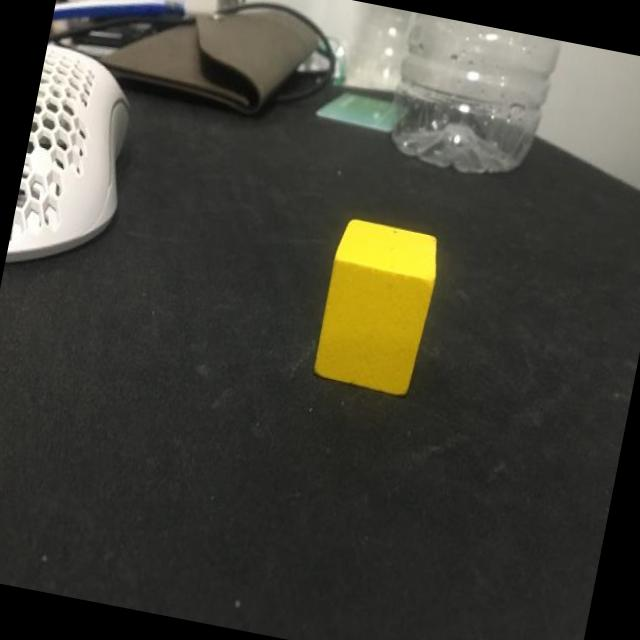yellow: (311, 216, 445, 398)
